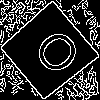O: (24, 26, 84, 85)
